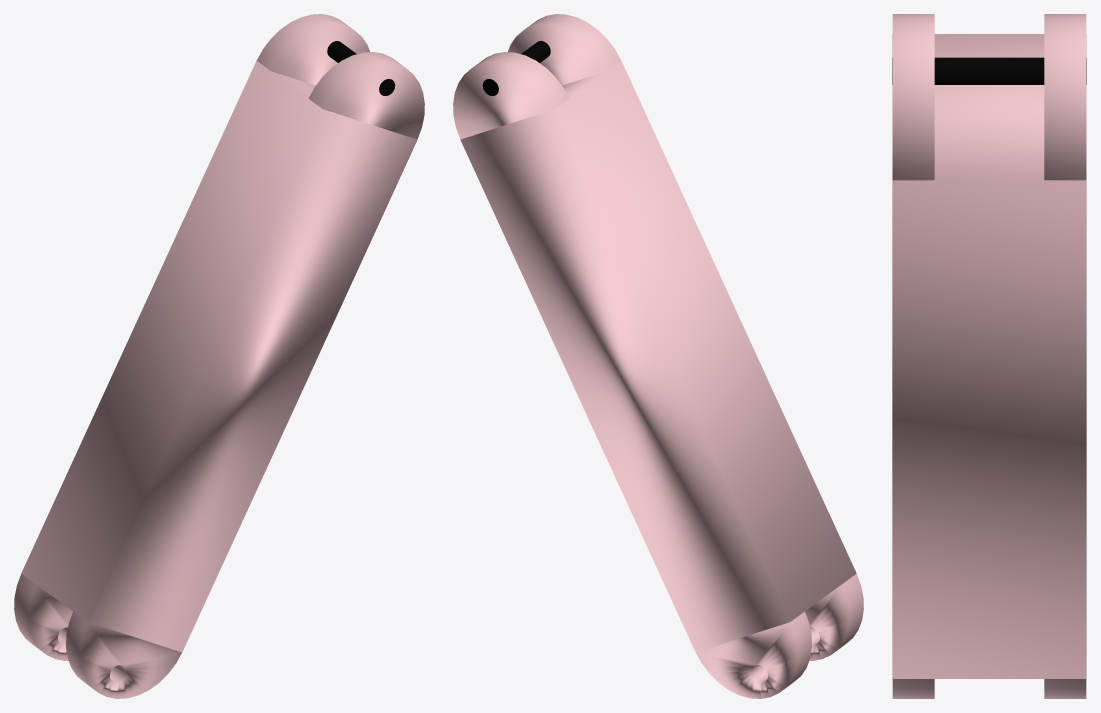
The model's file is final_robot_joint2.dae.
3 renders of one model, left to right at view 1: azimuth 30°, elevation 25°; view 2: azimuth 150°, elevation 25°; view 3: azimuth 270°, elevation 25°, orthographic. The views are drawn at different scales.
Visible parts, largest first — view 1: 2; view 2: 2; view 3: 2.
Part boxes in pixels (x1,y1,x2,y2): 2: [14, 14, 424, 698]; 2: [453, 14, 863, 698]; 2: [892, 14, 1086, 698].
Bounding box in the file's own units: 0.9594 × 0.32 × 1.53.
